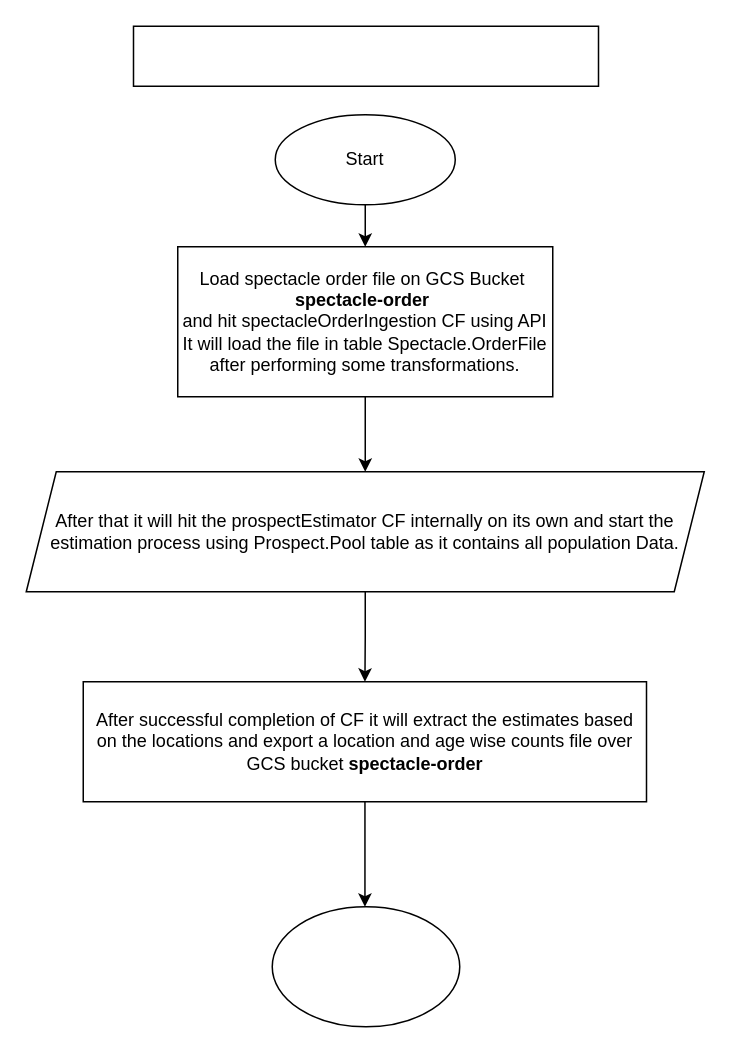
Image size: 731x1053. Some labels were removed from this diagram. The shapes that lost their labels are listed below. From the top down, each one's centre as x and y in pixels, then its label:
[365,55]: Spectacle Prospect Flow Diagram
[365,966]: END
